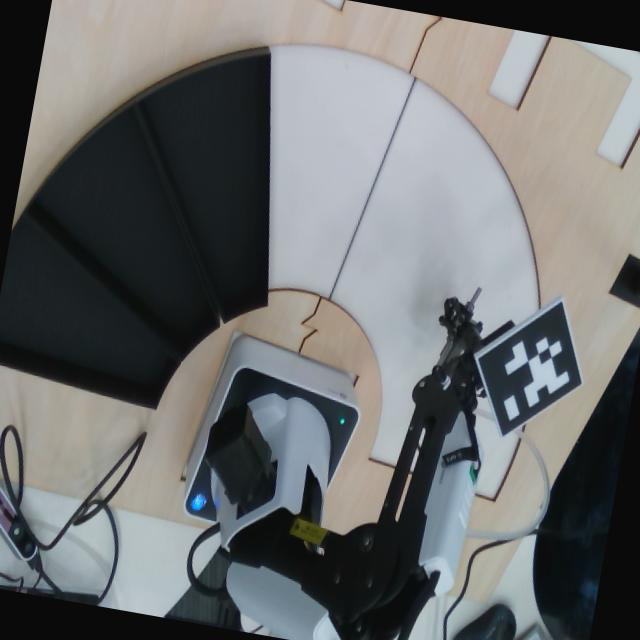box: (27, 102, 285, 360), (0, 213, 191, 460), (124, 39, 274, 325)
